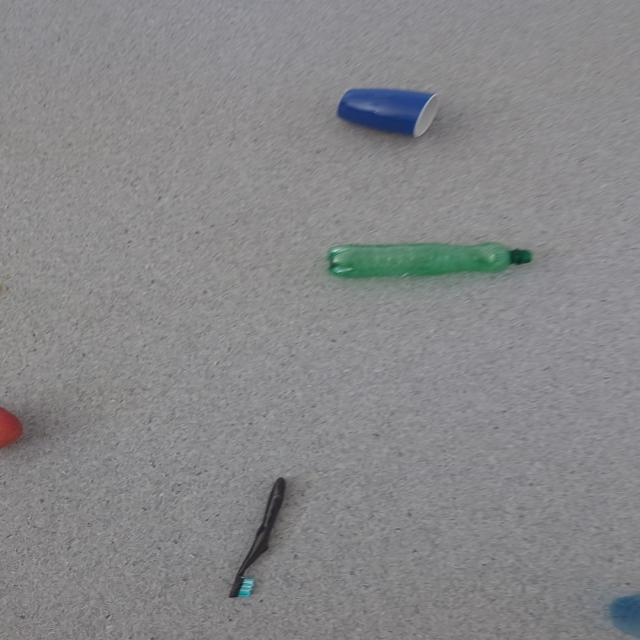apple: (0, 406, 23, 449)
bottle: (325, 241, 532, 278)
mug: (336, 87, 439, 138)
toothbrush: (228, 477, 286, 598)
